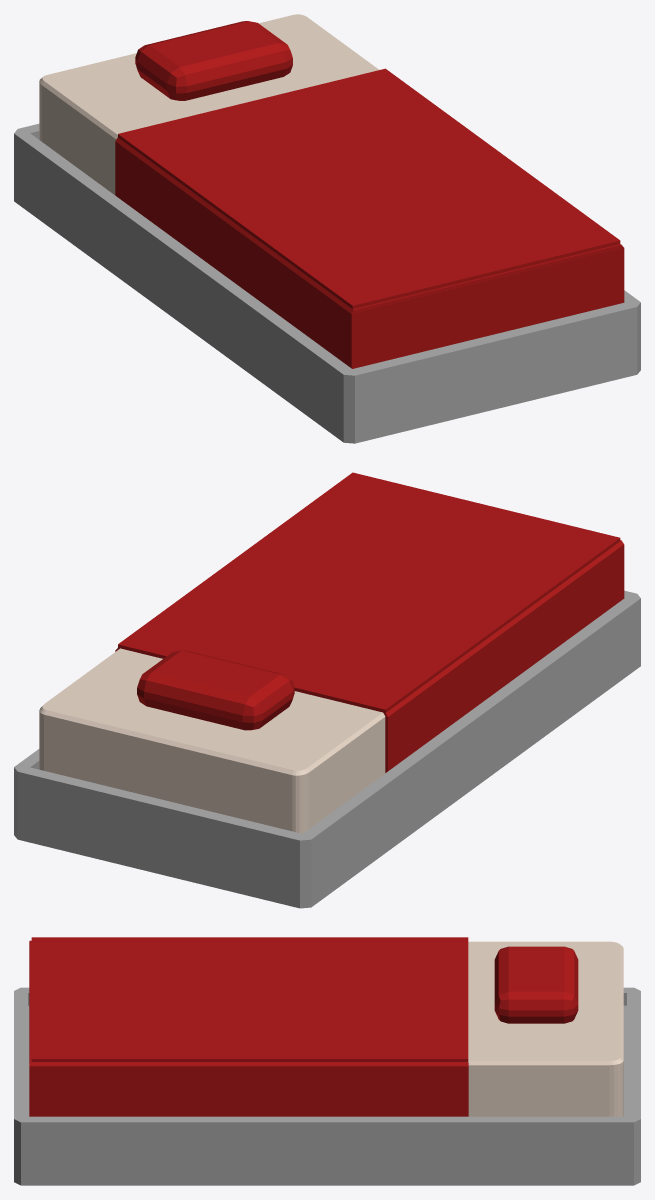
Rendered from singlebed.glb.
The picture shows the model from 3 angles, top to bottom: view 1: azimuth 30°, elevation 25°; view 2: azimuth 150°, elevation 25°; view 3: azimuth 270°, elevation 25°; orthographic projection. The views are drawn at different scales.
Parts seen in each view (by area): view 1: Bed, Pillow; view 2: Bed, Pillow; view 3: Bed, Pillow.
Part boxes in pixels (<box>): Bed: <box>14,14,640,443</box>; Pillow: <box>135,21,292,100</box>; Bed: <box>14,472,640,908</box>; Pillow: <box>137,650,294,730</box>; Bed: <box>14,937,640,1185</box>; Pillow: <box>494,946,578,1023</box>.
Bounding box in the file's own units: 2.29 × 1.17 × 4.5.
